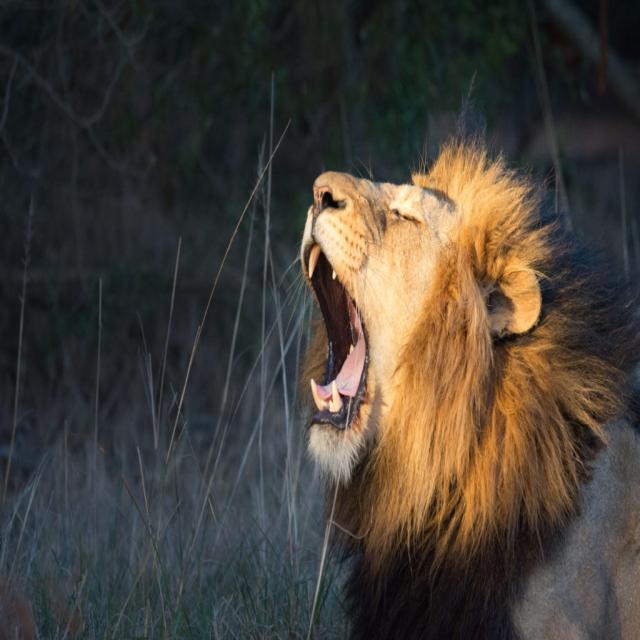Lion: (302, 162, 638, 635)
